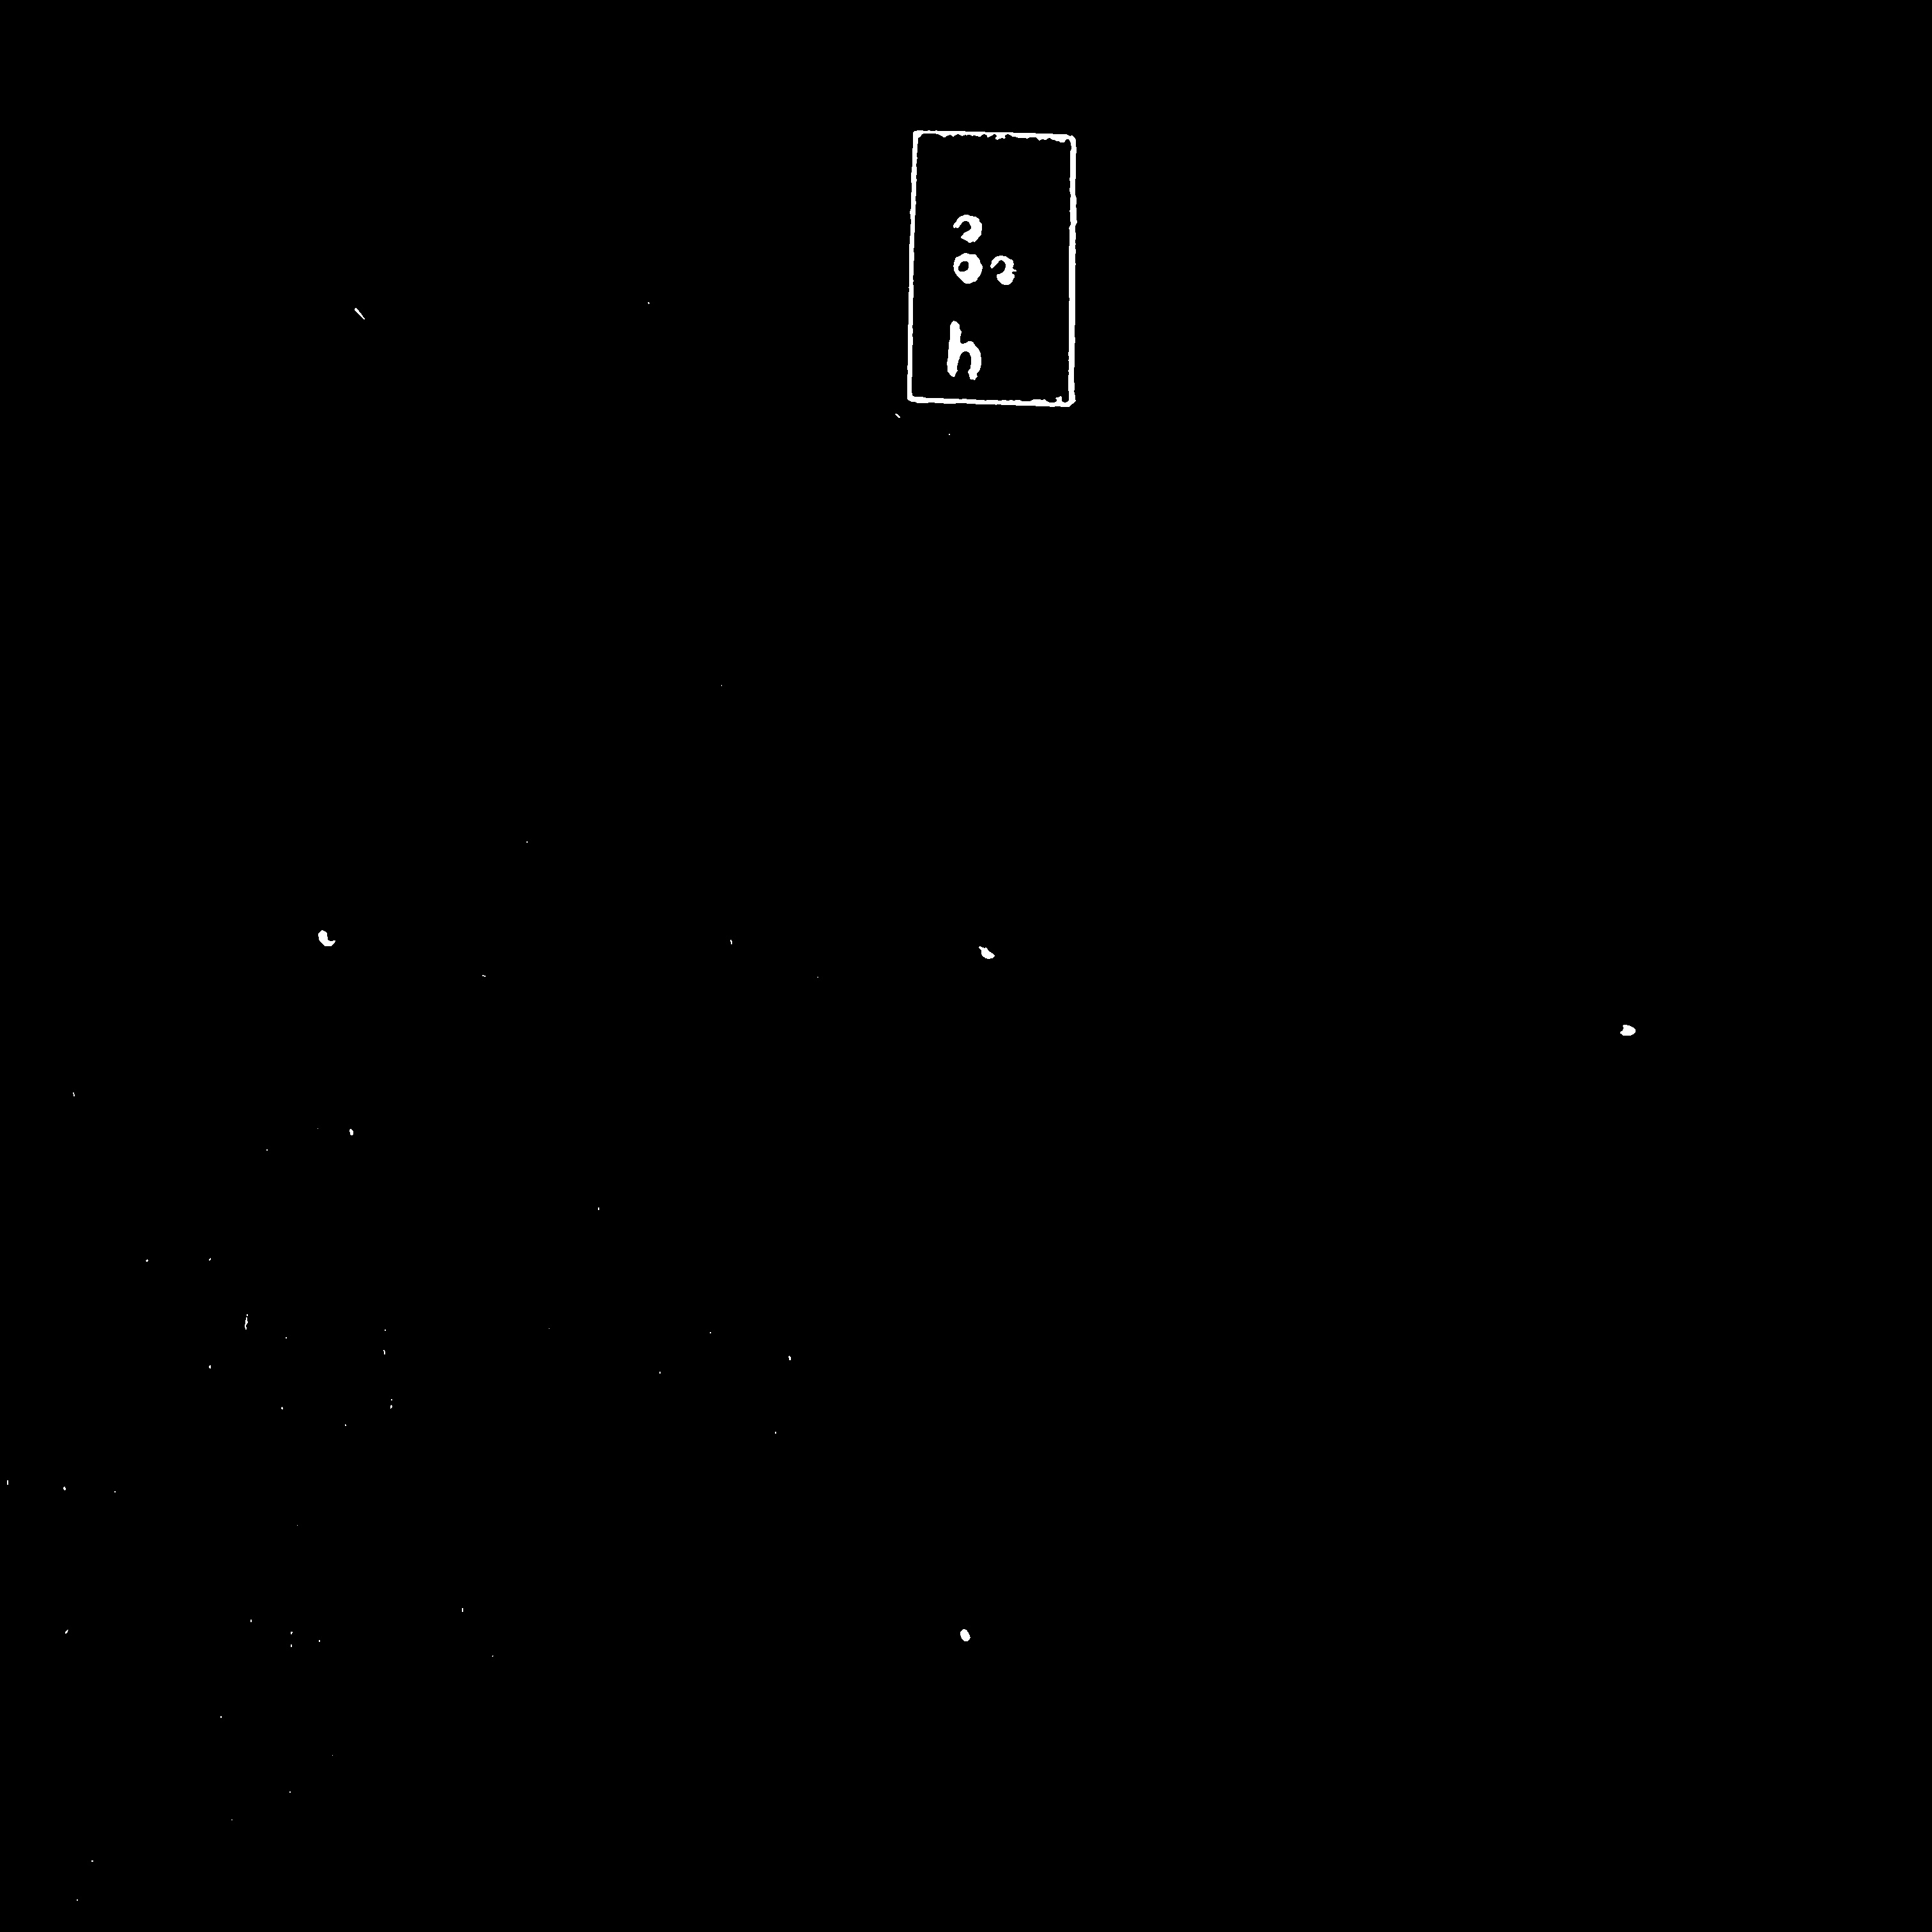h: (940, 192, 1029, 327)
